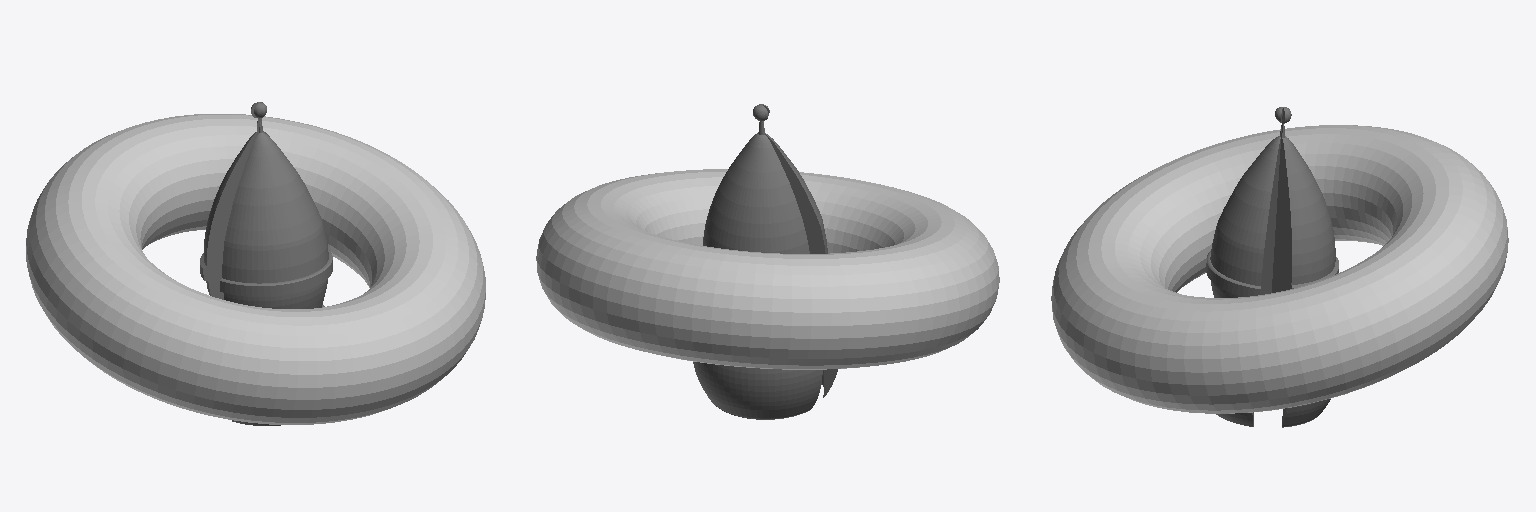
File: asdf.obj
3 renders of one model, left to right at view 1: azimuth 30°, elevation 25°; view 2: azimuth 150°, elevation 25°; view 3: azimuth 270°, elevation 25°, orthographic.
Bounding box in the file's own units: 1904 × 1368 × 1878.